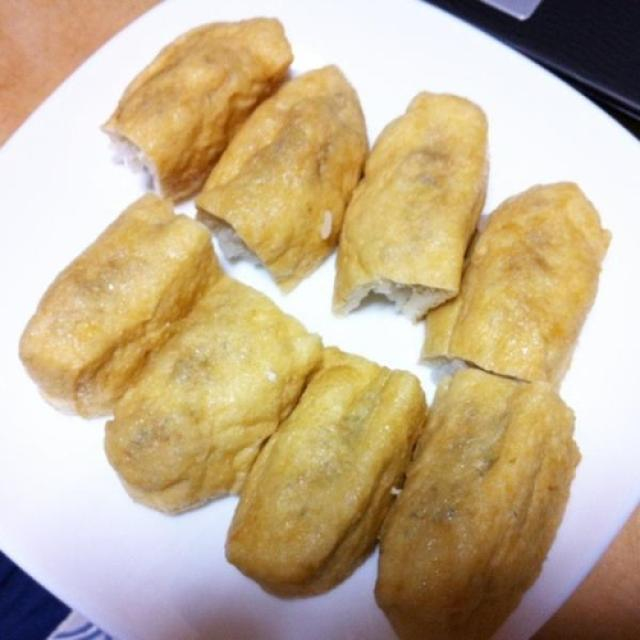寿司卷物: (18, 15, 623, 631)
